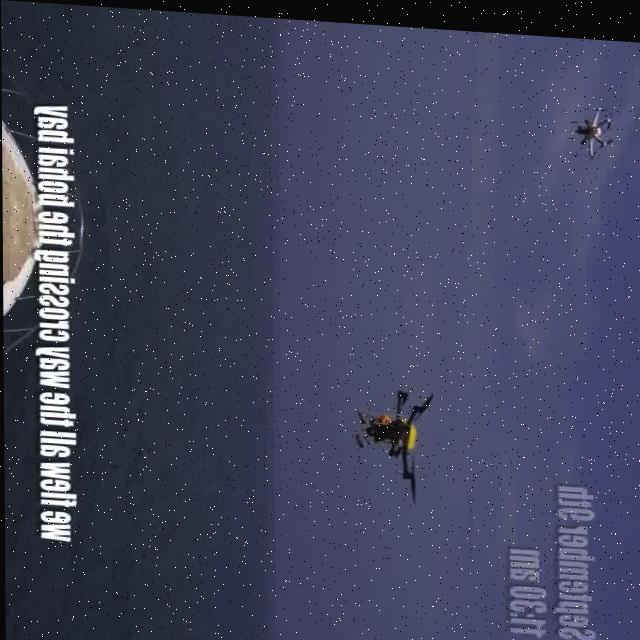drone: (352, 377, 435, 492), (564, 97, 621, 152)
